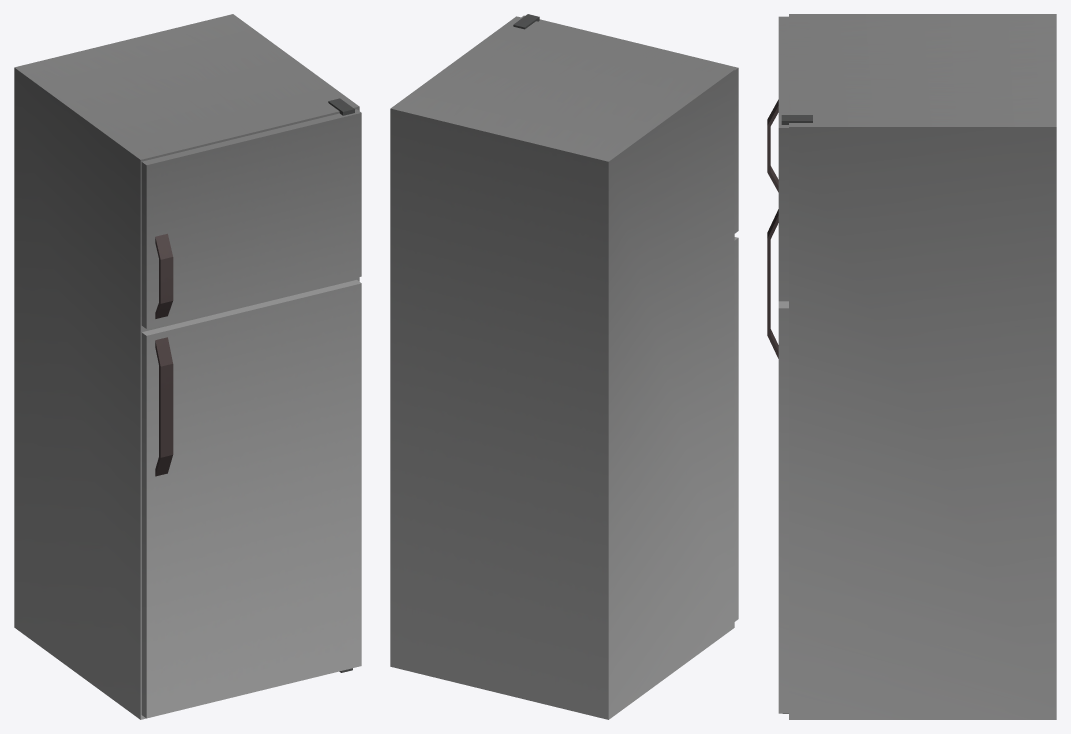
File: Fridge.fbx
The picture shows the model from 3 angles, left to right: view 1: azimuth 30°, elevation 25°; view 2: azimuth 150°, elevation 25°; view 3: azimuth 270°, elevation 25°; orthographic projection. The views are drawn at different scales.
Parts seen in each view (by area): view 1: Kit_1_Fridge; view 2: Kit_1_Fridge; view 3: Kit_1_Fridge.
Boxes of the visible parts, box(x1,y1,x2,y2) form: Kit_1_Fridge: box(14, 14, 361, 719); Kit_1_Fridge: box(390, 14, 738, 719); Kit_1_Fridge: box(767, 14, 1056, 719).
Bounding box in the file's own units: 80.34 × 197 × 86.83.
